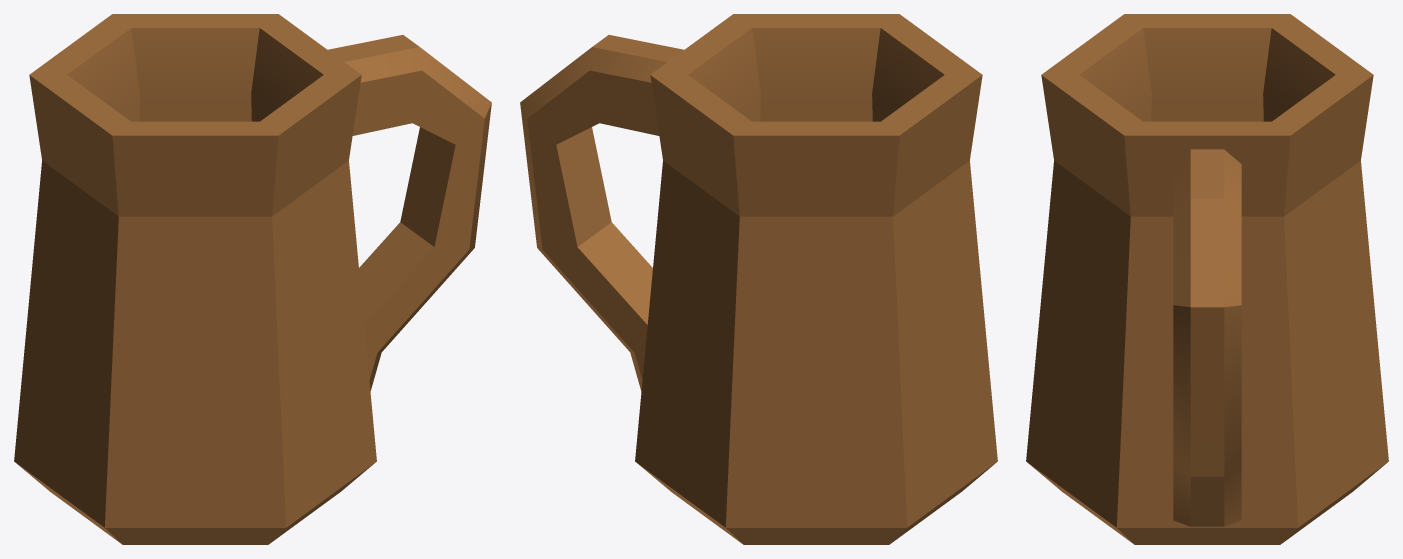
File: SM_beermug.fbx
3 renders of one model, left to right at view 1: azimuth 30°, elevation 25°; view 2: azimuth 150°, elevation 25°; view 3: azimuth 270°, elevation 25°, orthographic.
Parts seen in each view (by area): view 1: Cylinder022; view 2: Cylinder022; view 3: Cylinder022.
Boxes of the visible parts, x1,y1,x2,y2 form: Cylinder022: (14,14,491,544); Cylinder022: (520,14,997,544); Cylinder022: (1026,14,1388,544).
Size of the model in its own units: 15.12 by 14.21 by 11.21.
